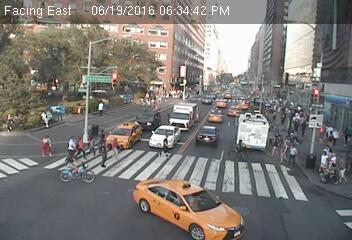neg: (240, 176, 273, 220), (18, 24, 50, 67), (60, 147, 89, 186), (143, 180, 171, 217), (226, 132, 251, 164), (183, 156, 208, 188), (122, 28, 143, 56), (63, 39, 84, 67), (121, 78, 142, 105), (229, 90, 249, 117), (201, 94, 221, 120), (58, 87, 76, 112), (92, 66, 109, 88), (313, 29, 329, 51), (278, 29, 293, 51), (174, 53, 187, 71), (34, 92, 44, 105)
pos: (93, 139, 113, 166), (108, 135, 128, 161), (38, 133, 57, 158), (156, 132, 175, 157), (74, 134, 92, 157), (2, 111, 19, 134), (286, 143, 303, 166), (94, 98, 109, 118)
